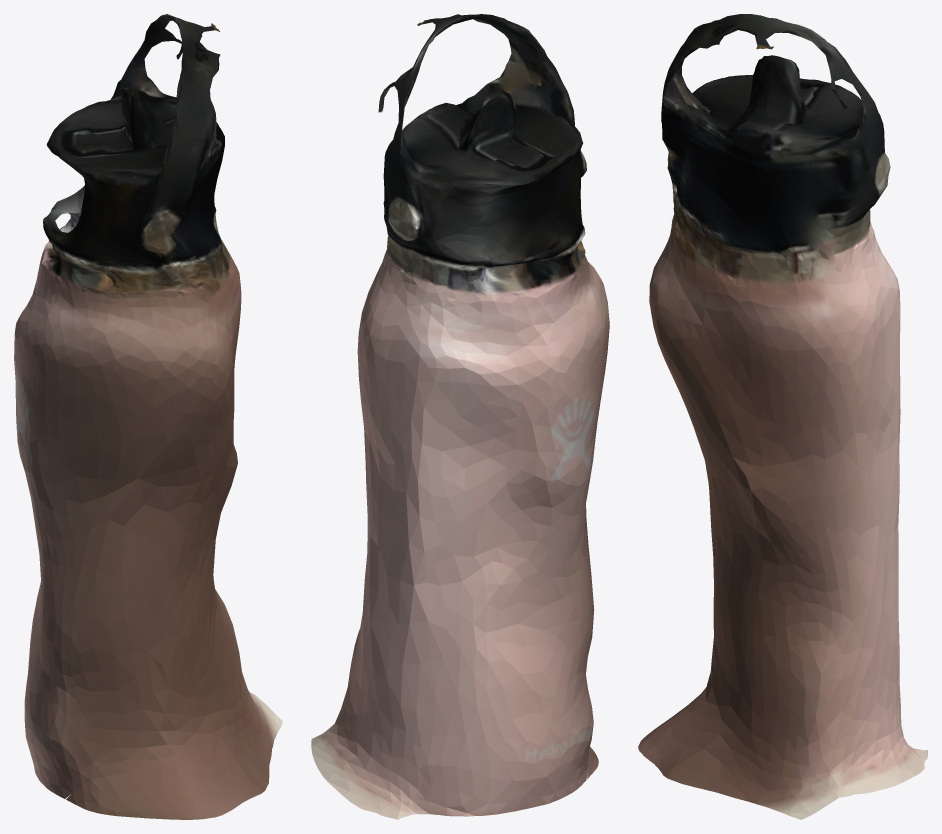
The model's file is hydroflask.glb.
The picture shows the model from 3 angles, left to right: view 1: azimuth 30°, elevation 25°; view 2: azimuth 150°, elevation 25°; view 3: azimuth 270°, elevation 25°; orthographic projection.
Size of the model in its own units: 0.1525 by 0.4088 by 0.1443.
Materials: 1 (1 with a texture image).
